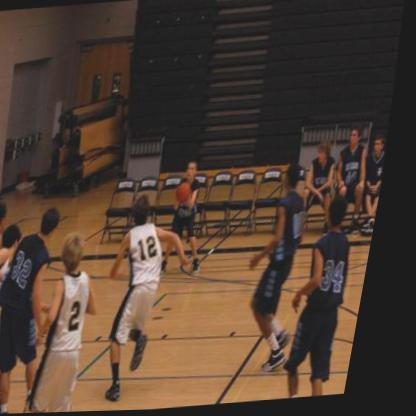basketball: (180, 181, 199, 206)
